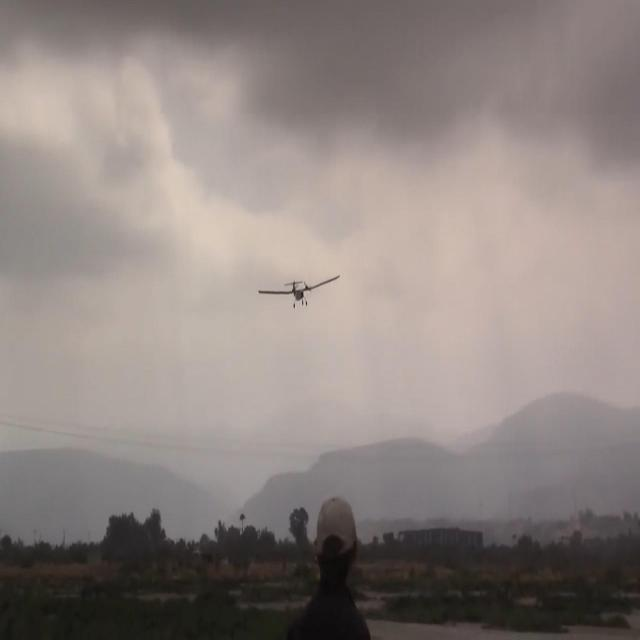iha: (282, 269, 317, 312)
